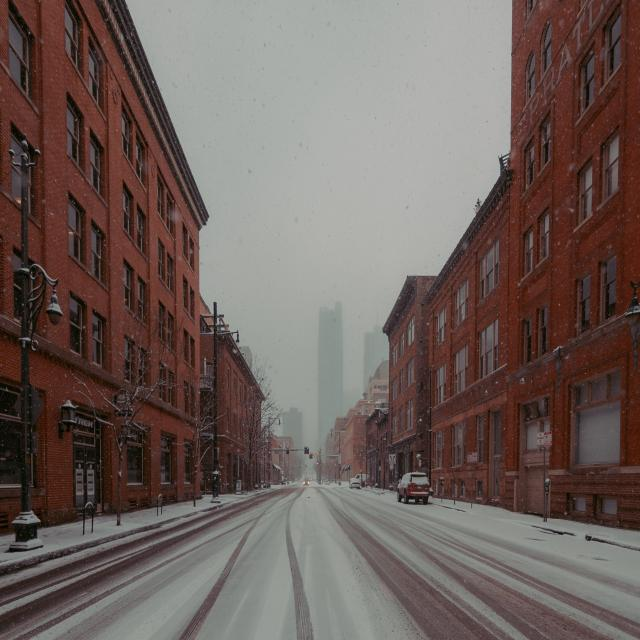Street Light: (8, 262, 62, 554), (211, 329, 239, 503), (416, 414, 434, 498), (267, 415, 281, 492)
